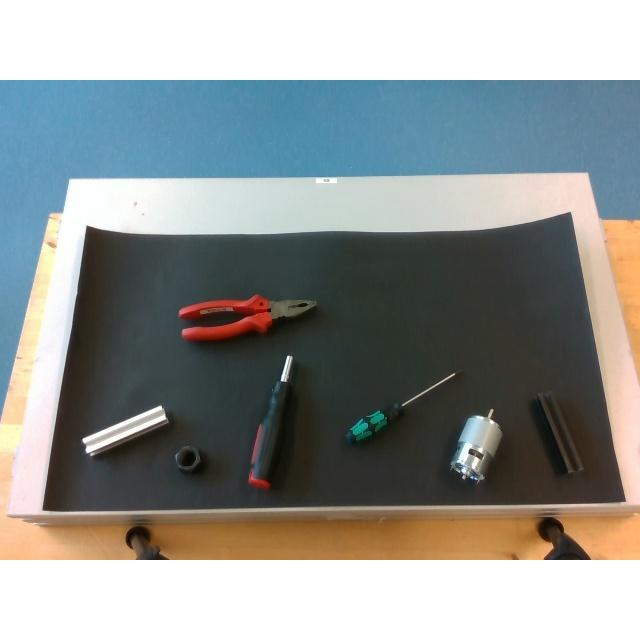F20_20_B: (536, 391, 584, 473)
F20_20_G: (82, 406, 170, 454)
M20: (174, 444, 202, 472)
Motor2: (450, 409, 502, 486)
Screwdriver: (346, 371, 456, 442)
